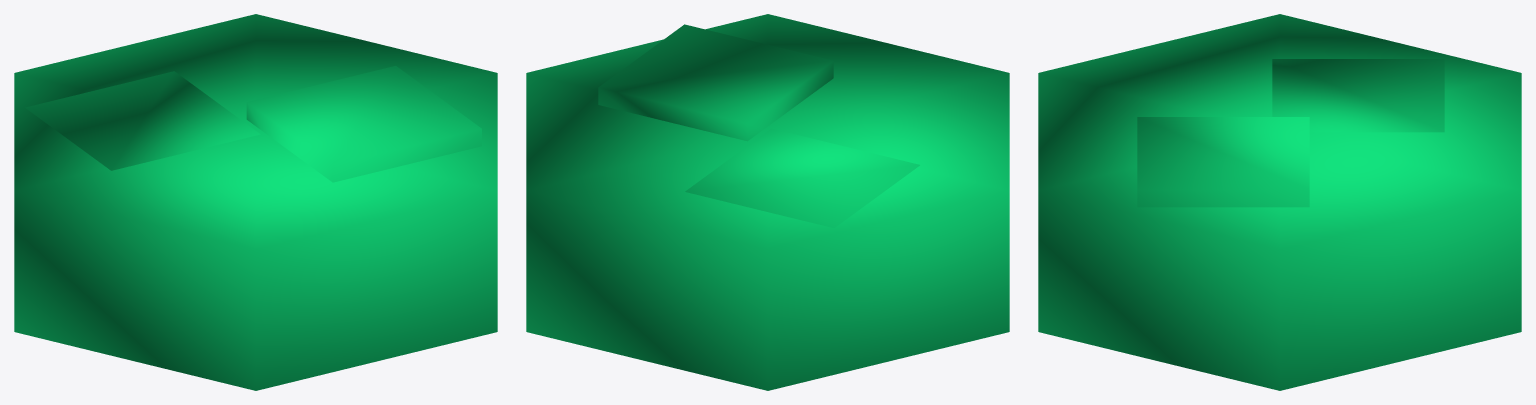
File: ps2_jrpg_bush.obj
The picture shows the model from 3 angles, left to right: view 1: azimuth 30°, elevation 25°; view 2: azimuth 150°, elevation 25°; view 3: azimuth 270°, elevation 25°; orthographic projection.
Size of the model in its own units: 1.36 by 0.4271 by 1.18.
